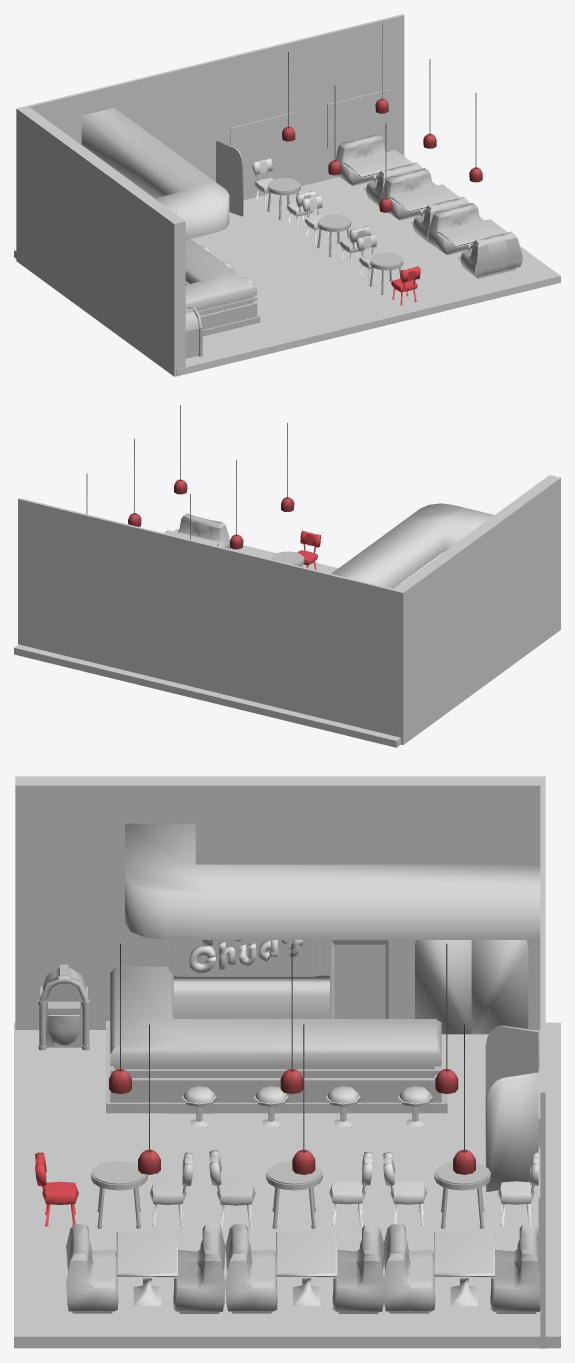
The model's file is M_Blockout.fbx.
3 renders of one model, top to bottom at view 1: azimuth 30°, elevation 25°; view 2: azimuth 150°, elevation 25°; view 3: azimuth 270°, elevation 25°, orthographic. The views are drawn at different scales.
Parts seen in each view (by area): view 1: Main Walls, Floor, Top COunter, bar, window1, window2, bank.006, Cube.003, bank.005, bank.001, bank.004, tafelgroot.001 (+17 smaller); view 2: Main Walls, Top COunter, Floor, bank.006, stoel.006; view 3: Floor, Main Walls, Top COunter, bar, Doors, Cube.003, counter, Frige, Back of sign, Jukebox, bank.006, bank.003 (+25 smaller).
Part boxes in pixels (x1,y1,x2,y2): Main Walls: [16, 14, 404, 376]; Floor: [14, 177, 560, 376]; Top COunter: [81, 108, 229, 239]; bar: [185, 239, 260, 336]; window1: [327, 89, 389, 148]; window2: [230, 113, 292, 169]; bank.006: [460, 231, 522, 278]; Cube.003: [216, 141, 243, 216]; bank.005: [428, 203, 480, 255]; bank.001: [335, 133, 385, 185]; bank.004: [381, 168, 433, 220]; tafelgroot.001: [343, 150, 412, 190]; Main Walls: [18, 475, 560, 744]; Top COunter: [331, 503, 494, 588]; Floor: [14, 529, 400, 747]; bank.006: [178, 513, 230, 549]; stoel.006: [297, 531, 320, 570]; Floor: [14, 1022, 560, 1348]; Main Walls: [15, 776, 545, 1348]; Top COunter: [125, 823, 540, 939]; bar: [106, 966, 447, 1113]; Doors: [415, 940, 528, 1034]; Cube.003: [485, 1025, 539, 1191]; counter: [173, 975, 331, 1018]; Frige: [330, 940, 389, 1018]; Back of sign: [168, 940, 322, 976]; Jukebox: [38, 964, 90, 1050]; bank.006: [66, 1224, 118, 1313]; bank.003: [225, 1224, 277, 1313].
Size of the model in its own units: 1590 by 676 by 1161.
